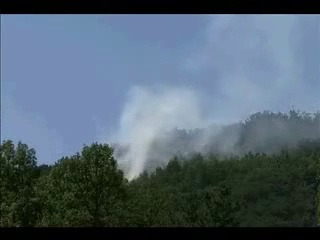smoke: (175, 13, 318, 159), (104, 84, 176, 183)
